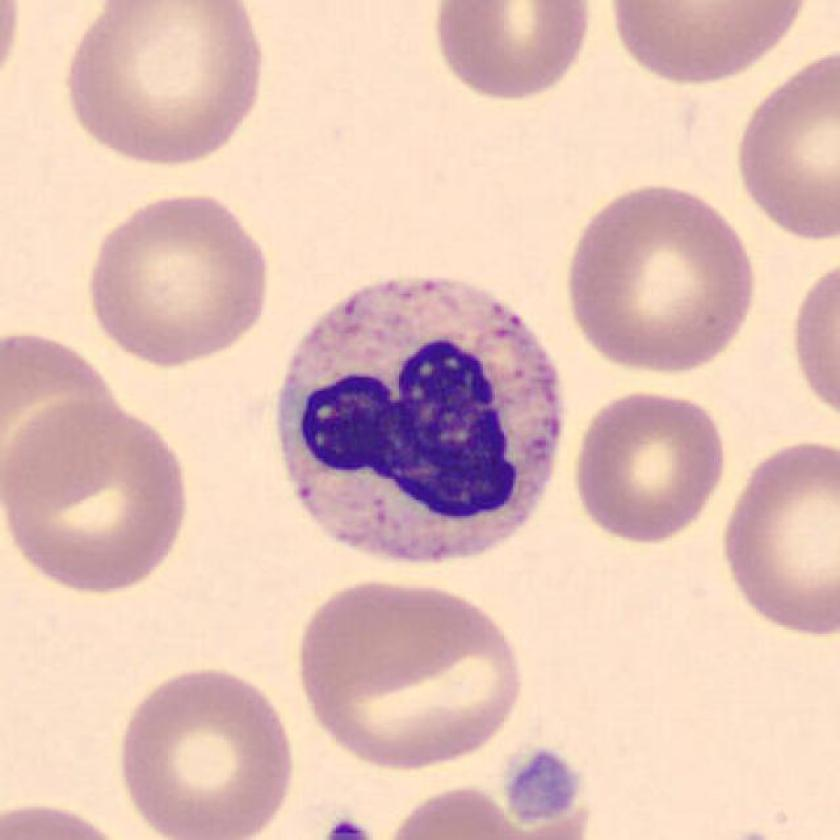neutrophil: (282, 282, 563, 563)
